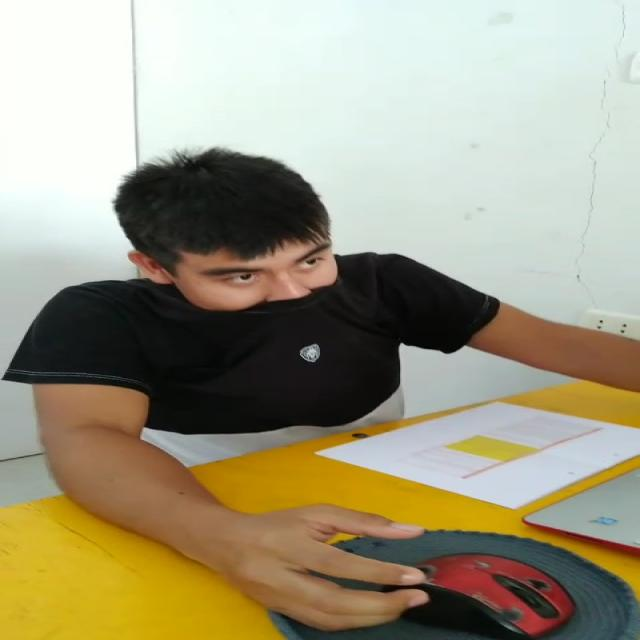8_ropa_rostro: (115, 266, 398, 352)
